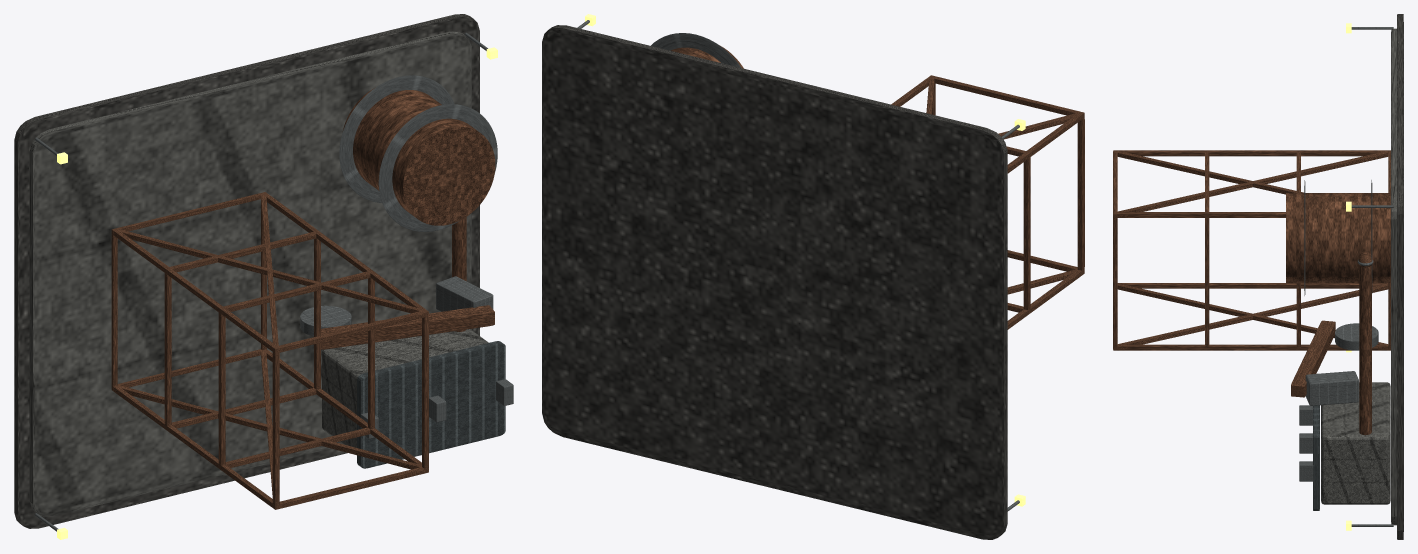
File: b-46-neutral-oil-derrick-lod0.glb
The picture shows the model from 3 angles, left to right: view 1: azimuth 30°, elevation 25°; view 2: azimuth 150°, elevation 25°; view 3: azimuth 270°, elevation 25°; orthographic projection. The views are drawn at different scales.
Visible parts, largest first — view 1: foundation_inner_pad, foundation, oil_storage_tank_vessel, pump_house_roof, pump_house_main_hall, oil_storage_tank_ring_high, oil_storage_tank_ring_low, pumpjack_beam, primary_oil_derrick_brace_a_2.1, primary_oil_derrick_brace_a_-2.1, primary_oil_derrick_column_w_n, primary_oil_derrick_column_w_s (+22 smaller); view 2: foundation, primary_oil_derrick_beam_y_3_w, primary_oil_derrick_beam_y_2_w, oil_storage_tank_ring_high, primary_oil_derrick_beam_x_3_n, primary_oil_derrick_column_w_n, primary_oil_derrick_column_w_s; view 3: oil_storage_tank_vessel, pump_house_main_hall, foundation, foundation_inner_pad, oil_export_pipe_segment_2, primary_oil_derrick_column_w_n, pumpjack_horsehead, primary_oil_derrick_brace_a_2.1, primary_oil_derrick_brace_a_-2.1, primary_oil_derrick_column_e_s, pumpjack_beam, primary_oil_derrick_column_w_s (+7 smaller).
Part boxes in pixels (bbox=[...]): foundation_inner_pad: bbox=[29, 31, 471, 516]; foundation: bbox=[14, 14, 479, 528]; oil_storage_tank_vessel: bbox=[342, 87, 495, 225]; pump_house_roof: bbox=[357, 341, 505, 468]; pump_house_main_hall: bbox=[322, 329, 488, 447]; oil_storage_tank_ring_high: bbox=[378, 104, 497, 231]; oil_storage_tank_ring_low: bbox=[339, 75, 454, 202]; pumpjack_beam: bbox=[321, 305, 494, 349]; primary_oil_derrick_brace_a_2.1: bbox=[117, 229, 422, 313]; primary_oil_derrick_brace_a_-2.1: bbox=[117, 385, 421, 469]; primary_oil_derrick_column_w_n: bbox=[113, 229, 275, 351]; primary_oil_derrick_column_w_s: bbox=[113, 386, 272, 507]; foundation: bbox=[542, 25, 1007, 539]; primary_oil_derrick_beam_y_3_w: bbox=[1077, 111, 1084, 270]; primary_oil_derrick_beam_y_2_w: bbox=[1023, 151, 1030, 310]; oil_storage_tank_ring_high: bbox=[651, 33, 741, 67]; primary_oil_derrick_beam_x_3_n: bbox=[931, 76, 1084, 118]; primary_oil_derrick_column_w_n: bbox=[1007, 114, 1082, 173]; primary_oil_derrick_column_w_s: bbox=[1007, 270, 1082, 329]; oil_storage_tank_vessel: bbox=[1286, 193, 1390, 283]; pump_house_main_hall: bbox=[1321, 382, 1390, 504]; foundation: bbox=[1397, 14, 1403, 539]; foundation_inner_pad: bbox=[1391, 28, 1396, 525]; oil_export_pipe_segment_2: bbox=[1359, 265, 1371, 435]; primary_oil_derrick_column_w_n: bbox=[1117, 150, 1388, 156]; pumpjack_horsehead: bbox=[1305, 371, 1358, 405]; primary_oil_derrick_brace_a_2.1: bbox=[1117, 152, 1388, 212]; primary_oil_derrick_brace_a_-2.1: bbox=[1117, 284, 1388, 344]; primary_oil_derrick_column_e_s: bbox=[1117, 344, 1388, 350]; pumpjack_beam: bbox=[1291, 320, 1335, 397]; primary_oil_derrick_column_w_s: bbox=[1117, 283, 1388, 288].
Size of what is drawn, in the model's own units: 13 by 11 by 8.35.
7 materials, 7 textured.
